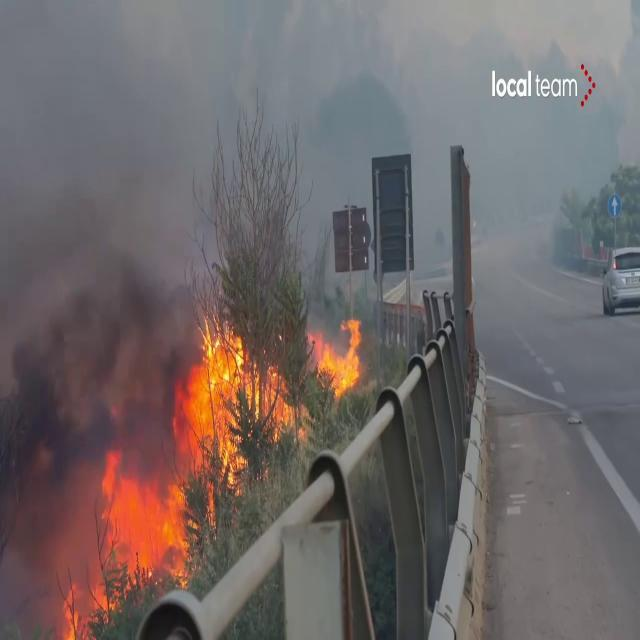Fire: (176, 308, 297, 479), (91, 454, 195, 596), (309, 310, 367, 402), (58, 568, 119, 638)
Smoke: (0, 2, 200, 514)
